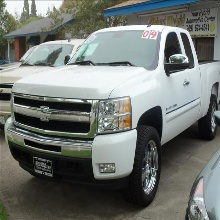no damage: (4, 24, 220, 208), (1, 38, 93, 120)
